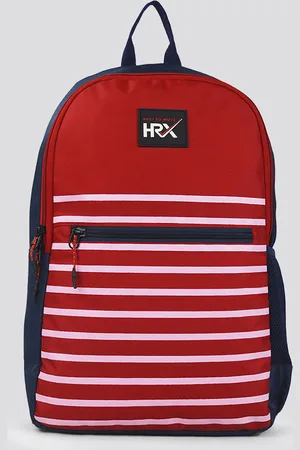backpack: (23, 0, 292, 436)
